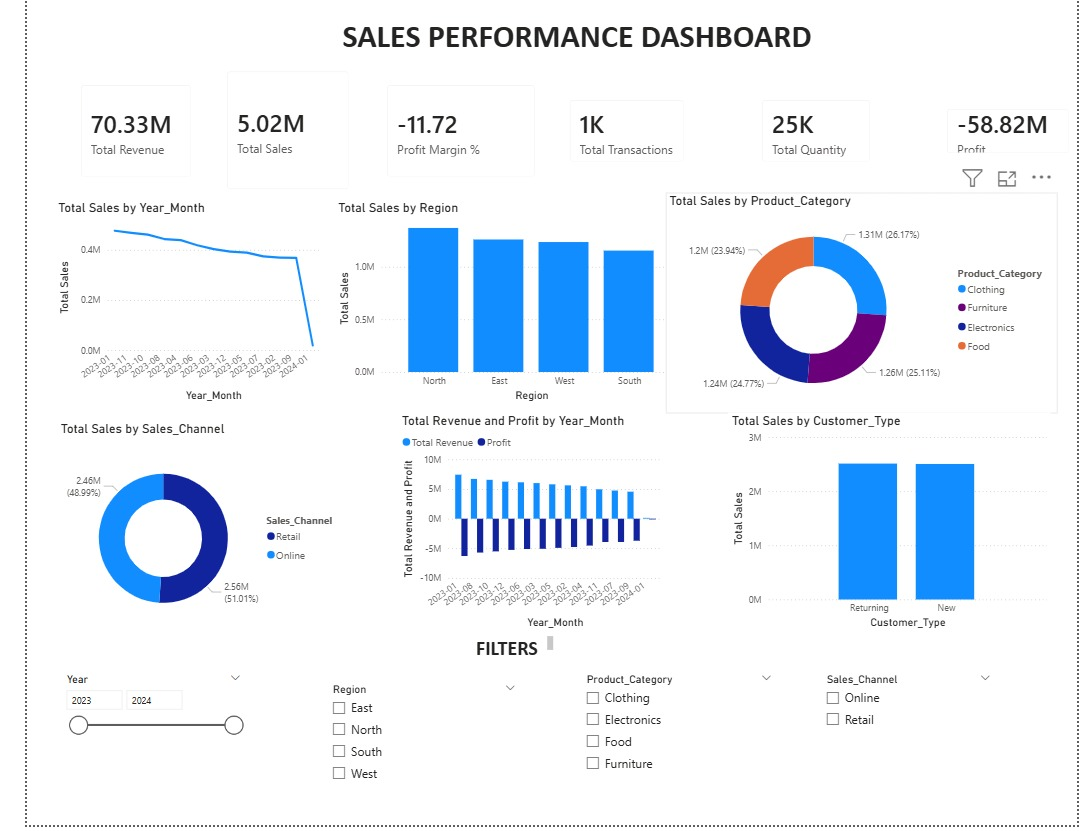

This screenshot's page, from the dashboard's own definition file:
{"tool":"powerbi","page":{"name":"Page 1","canvas":[1400,1100],"ordinal":0},"visuals":[{"type":"cardVisual","fields":{"Data":["Combined_Sales.Total Sales"]},"box":[250,78.3,196.7,191.7],"z":0},{"type":"cardVisual","fields":{"Data":["Combined_Sales.Total Revenue"]},"box":[55,96.7,181.7,156.7],"z":1},{"type":"cardVisual","fields":{"Data":["Combined_Sales.Profit"]},"box":[1210,128.3,196.7,93.3],"z":2},{"type":"cardVisual","fields":{"Data":["Combined_Sales.Profit Margin %"]},"box":[463.3,96.7,231.7,156.7],"z":3},{"type":"cardVisual","fields":{"Data":["Combined_Sales.Total Quantity"]},"box":[963.3,116.7,178.3,116.7],"z":4},{"type":"cardVisual","fields":{"Data":["Combined_Sales.Total Transactions"]},"box":[706.7,116.7,186.7,116.7],"z":5},{"type":"lineChart","fields":{"Category":["Date Table.Year_Month"],"Y":["Combined_Sales.Total Sales"]},"box":[36.7,266.7,358.3,273.3],"z":6},{"type":"columnChart","fields":{"Category":["Combined_Sales.Region"],"Y":["Combined_Sales.Total Sales"]},"box":[410,266.7,468.3,273.3],"z":7},{"type":"donutChart","fields":{"Category":["Combined_Sales.Product_Category"],"Y":["Combined_Sales.Total Sales"]},"box":[852.2,256.7,521.1,294.4],"z":8},{"type":"donutChart","fields":{"Category":["Combined_Sales.Sales_Channel"],"Y":["Combined_Sales.Total Sales"]},"box":[40,561.7,390,293.3],"z":9},{"type":"clusteredColumnChart","fields":{"Category":["Combined_Sales.Customer_Type"],"Y":["Combined_Sales.Total Sales"]},"box":[935,550,430,293.3],"z":10},{"type":"clusteredColumnChart","fields":{"Category":["Combined_Sales.Year_Month"],"Y":["Combined_Sales.Total Revenue","Combined_Sales.Profit"]},"box":[495,550,356.7,293.3],"z":11},{"type":"slicer","fields":{"Values":["Combined_Sales.Year"]},"box":[40,891.7,256.7,165],"z":12},{"type":"slicer","fields":{"Values":["Combined_Sales.Region"]},"box":[395,905,268.3,150],"z":13},{"type":"slicer","fields":{"Values":["Combined_Sales.Product_Category"]},"box":[733.3,891.7,271.7,165],"z":14},{"type":"slicer","fields":{"Values":["Combined_Sales.Sales_Channel"]},"box":[1053.3,891.7,243.3,146.7],"z":15},{"type":"textbox","box":[60,16.7,1346.7,73.3],"z":17},{"type":"textbox","box":[580,843.3,126.7,40],"z":18}]}

Visuals, with their boxes in screenshot pixels (x1, y1, x2, y2), scaled from the page's 1400x1100 canvas onto the 1088x838 screenshot:
cardVisual - Combined_Sales.Total Sales: [194, 60, 347, 206]
cardVisual - Combined_Sales.Total Revenue: [43, 74, 184, 193]
cardVisual - Combined_Sales.Profit: [940, 98, 1087, 169]
cardVisual - Combined_Sales.Profit Margin %: [360, 74, 540, 193]
cardVisual - Combined_Sales.Total Quantity: [749, 89, 887, 178]
cardVisual - Combined_Sales.Total Transactions: [549, 89, 694, 178]
lineChart - Date Table.Year_Month x Combined_Sales.Total Sales: [29, 203, 307, 411]
columnChart - Combined_Sales.Region x Combined_Sales.Total Sales: [319, 203, 683, 411]
donutChart - Combined_Sales.Product_Category x Combined_Sales.Total Sales: [662, 196, 1067, 420]
donutChart - Combined_Sales.Sales_Channel x Combined_Sales.Total Sales: [31, 428, 334, 651]
clusteredColumnChart - Combined_Sales.Customer_Type x Combined_Sales.Total Sales: [727, 419, 1061, 642]
clusteredColumnChart - Combined_Sales.Year_Month x Combined_Sales.Total Revenue: [385, 419, 662, 642]
slicer - Combined_Sales.Year: [31, 679, 231, 805]
slicer - Combined_Sales.Region: [307, 689, 515, 804]
slicer - Combined_Sales.Product_Category: [570, 679, 781, 805]
slicer - Combined_Sales.Sales_Channel: [819, 679, 1008, 791]
textbox: [47, 13, 1087, 69]
textbox: [451, 642, 549, 673]
